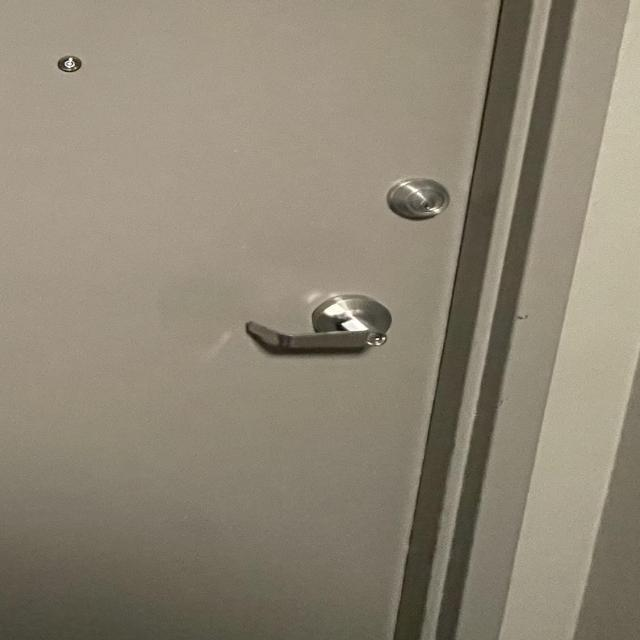door_handle: (229, 303, 416, 367)
